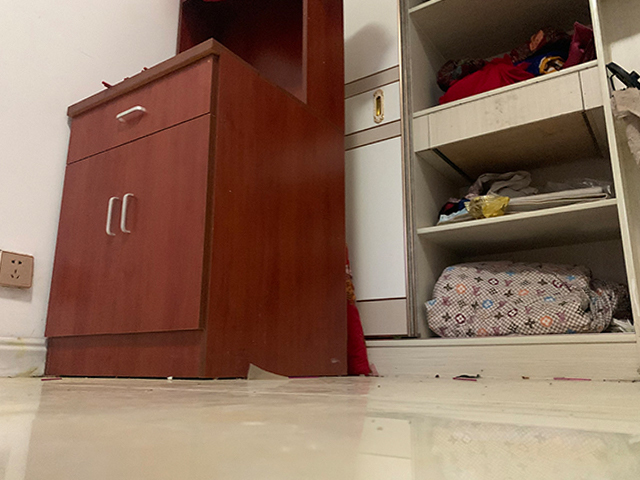cabinet: (348, 19, 640, 382), (39, 38, 338, 378)
